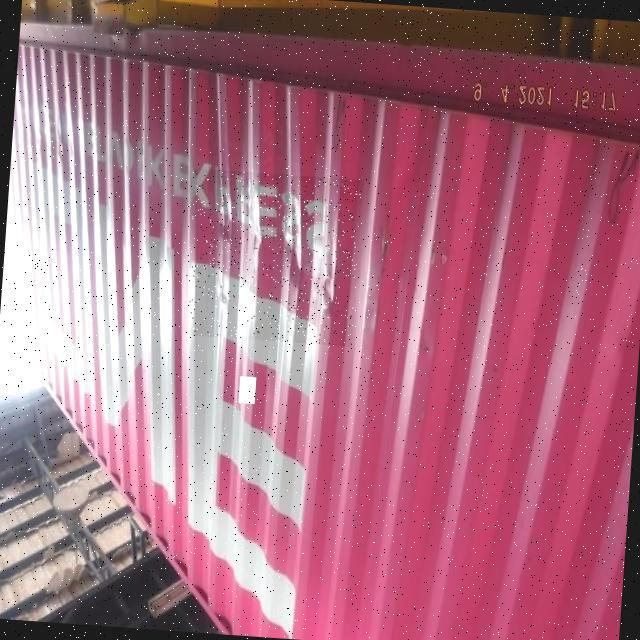Dent: (182, 168, 363, 346)
